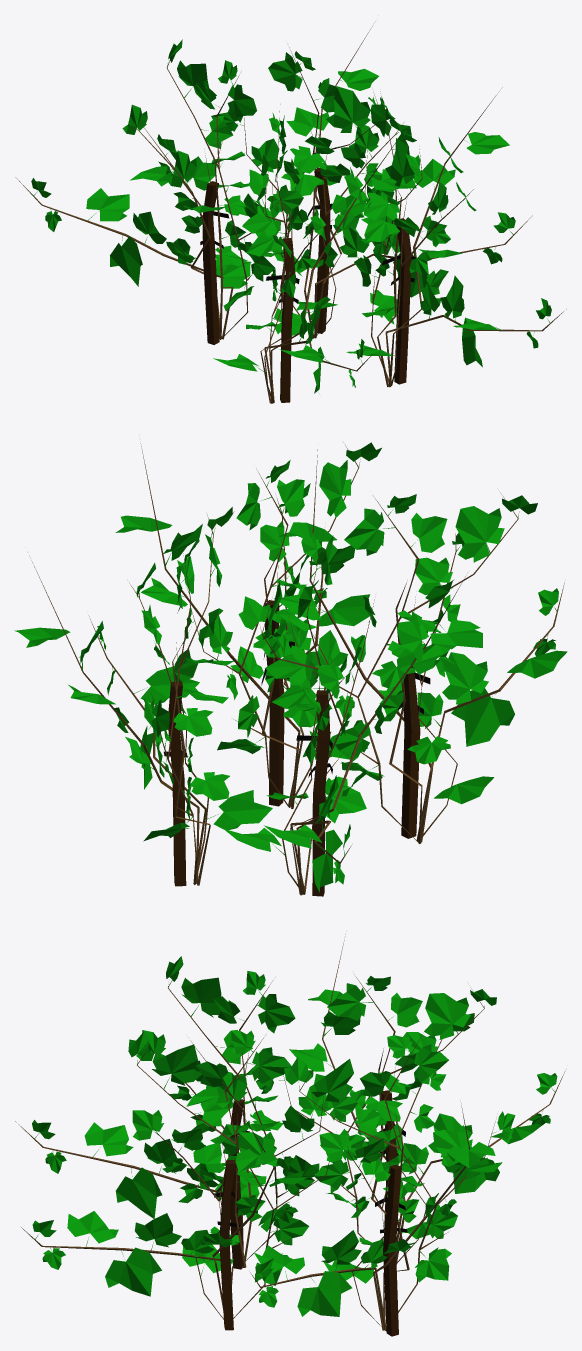
Rendered from grape_2.glb.
The picture shows the model from 3 angles, top to bottom: view 1: azimuth 30°, elevation 25°; view 2: azimuth 150°, elevation 25°; view 3: azimuth 270°, elevation 25°; orthographic projection. The views are drawn at different scales.
Parts seen in each view (by area): view 1: grape_2; view 2: grape_2; view 3: grape_2.
Part boxes in pixels (bbox=[...]): grape_2: bbox=[15, 21, 566, 403]; grape_2: bbox=[14, 442, 567, 896]; grape_2: bbox=[15, 934, 565, 1336].
Size of the model in its own units: 3.74 by 2.97 by 4.7.
